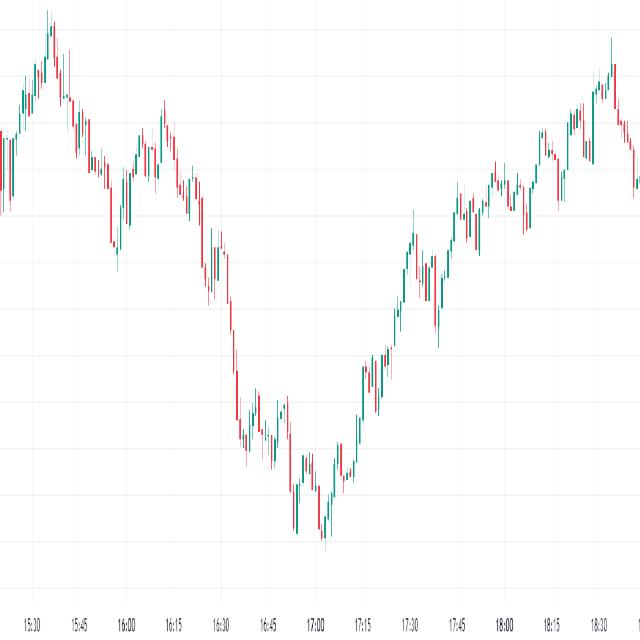Double-Bottom: (285, 384, 342, 559)
Head-Shoulders: (121, 96, 208, 297)
Rounding-Bottom: (218, 289, 410, 567)
